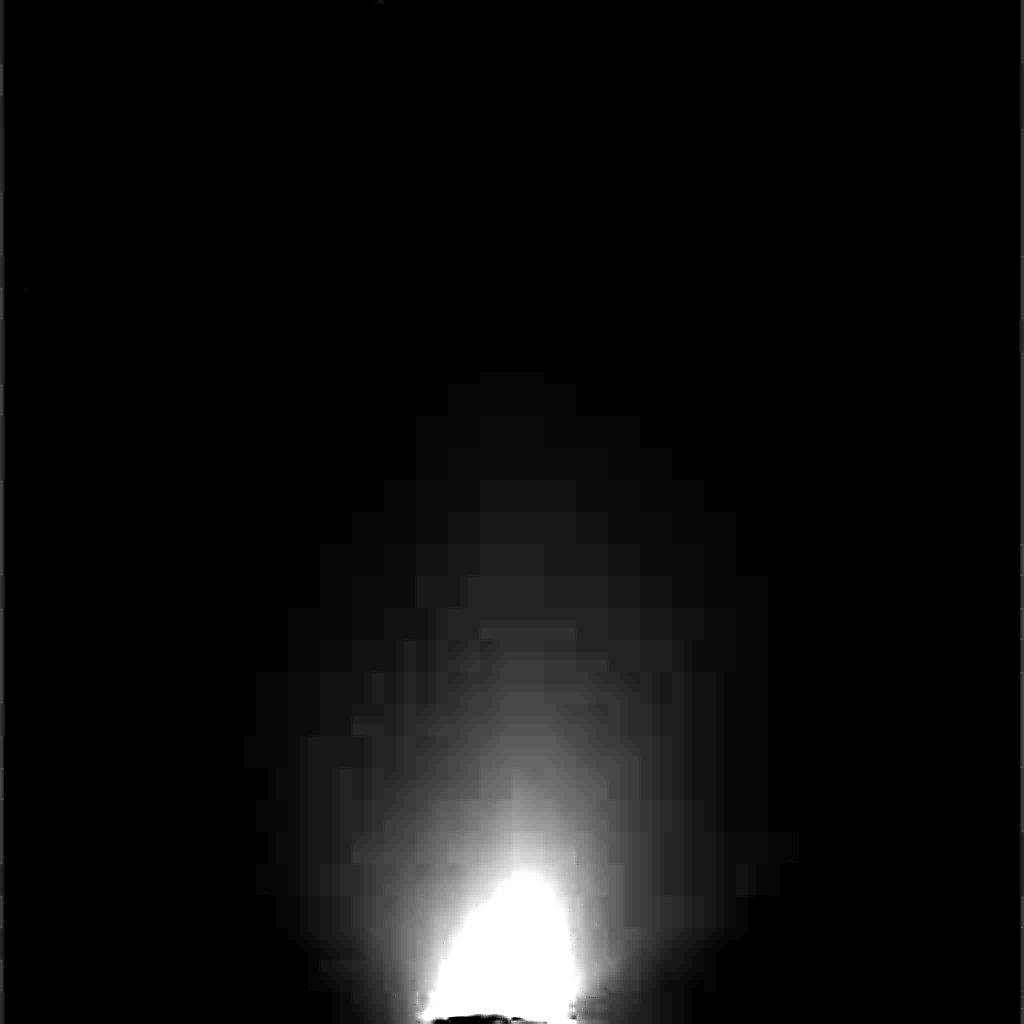plumes: (414, 869, 575, 1020)
